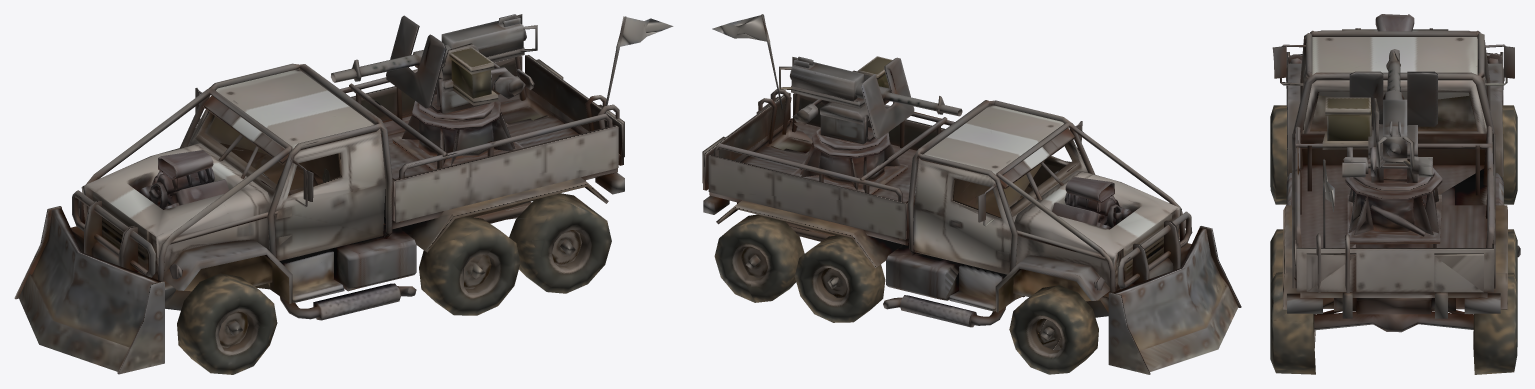
File: Car_Large.glb
3 views of the same model, side by side, from view 1: azimuth 30°, elevation 25°; view 2: azimuth 150°, elevation 25°; view 3: azimuth 270°, elevation 25° (orthographic). The views are drawn at different scales.
Parts seen in each view (by area): view 1: geometry_0; view 2: geometry_0; view 3: geometry_0.
Boxes of the visible parts, x1=… form: geometry_0: x1=14, y1=14, x2=673, y2=374; geometry_0: x1=702, y1=14, x2=1241, y2=374; geometry_0: x1=1270, y1=14, x2=1520, y2=374.
Size of the model in its own units: 0.9536 by 0.3672 by 0.3301.
1 material, 1 textured.
